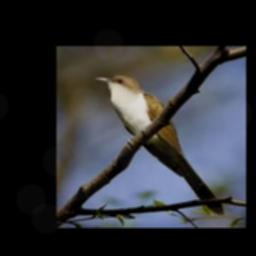Cuckoo: (94, 75, 225, 214)
